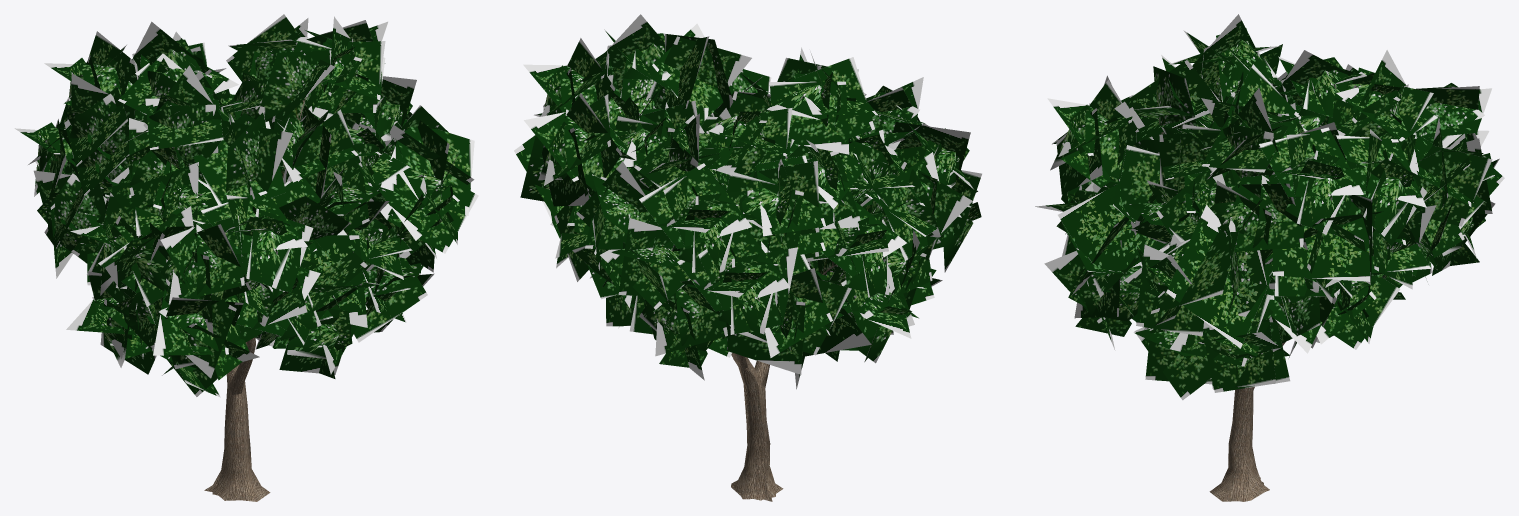
File: tree2.fbx
3 renders of one model, left to right at view 1: azimuth 30°, elevation 25°; view 2: azimuth 150°, elevation 25°; view 3: azimuth 270°, elevation 25°, orthographic. The views are drawn at different scales.
Parts seen in each view (by area): view 1: 23.001; view 2: 23.001; view 3: 23.001.
Part boxes in pixels (left/top/right/bottom): 23.001: left=14, top=14, right=478, bottom=501; 23.001: left=514, top=14, right=981, bottom=501; 23.001: left=1035, top=14, right=1504, bottom=501.
Bounding box in the file's own units: 14217 × 15084 × 14146.
